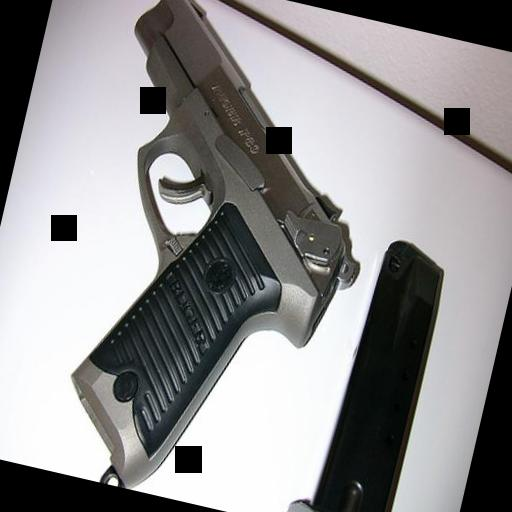Handgun: (25, 0, 412, 512)
